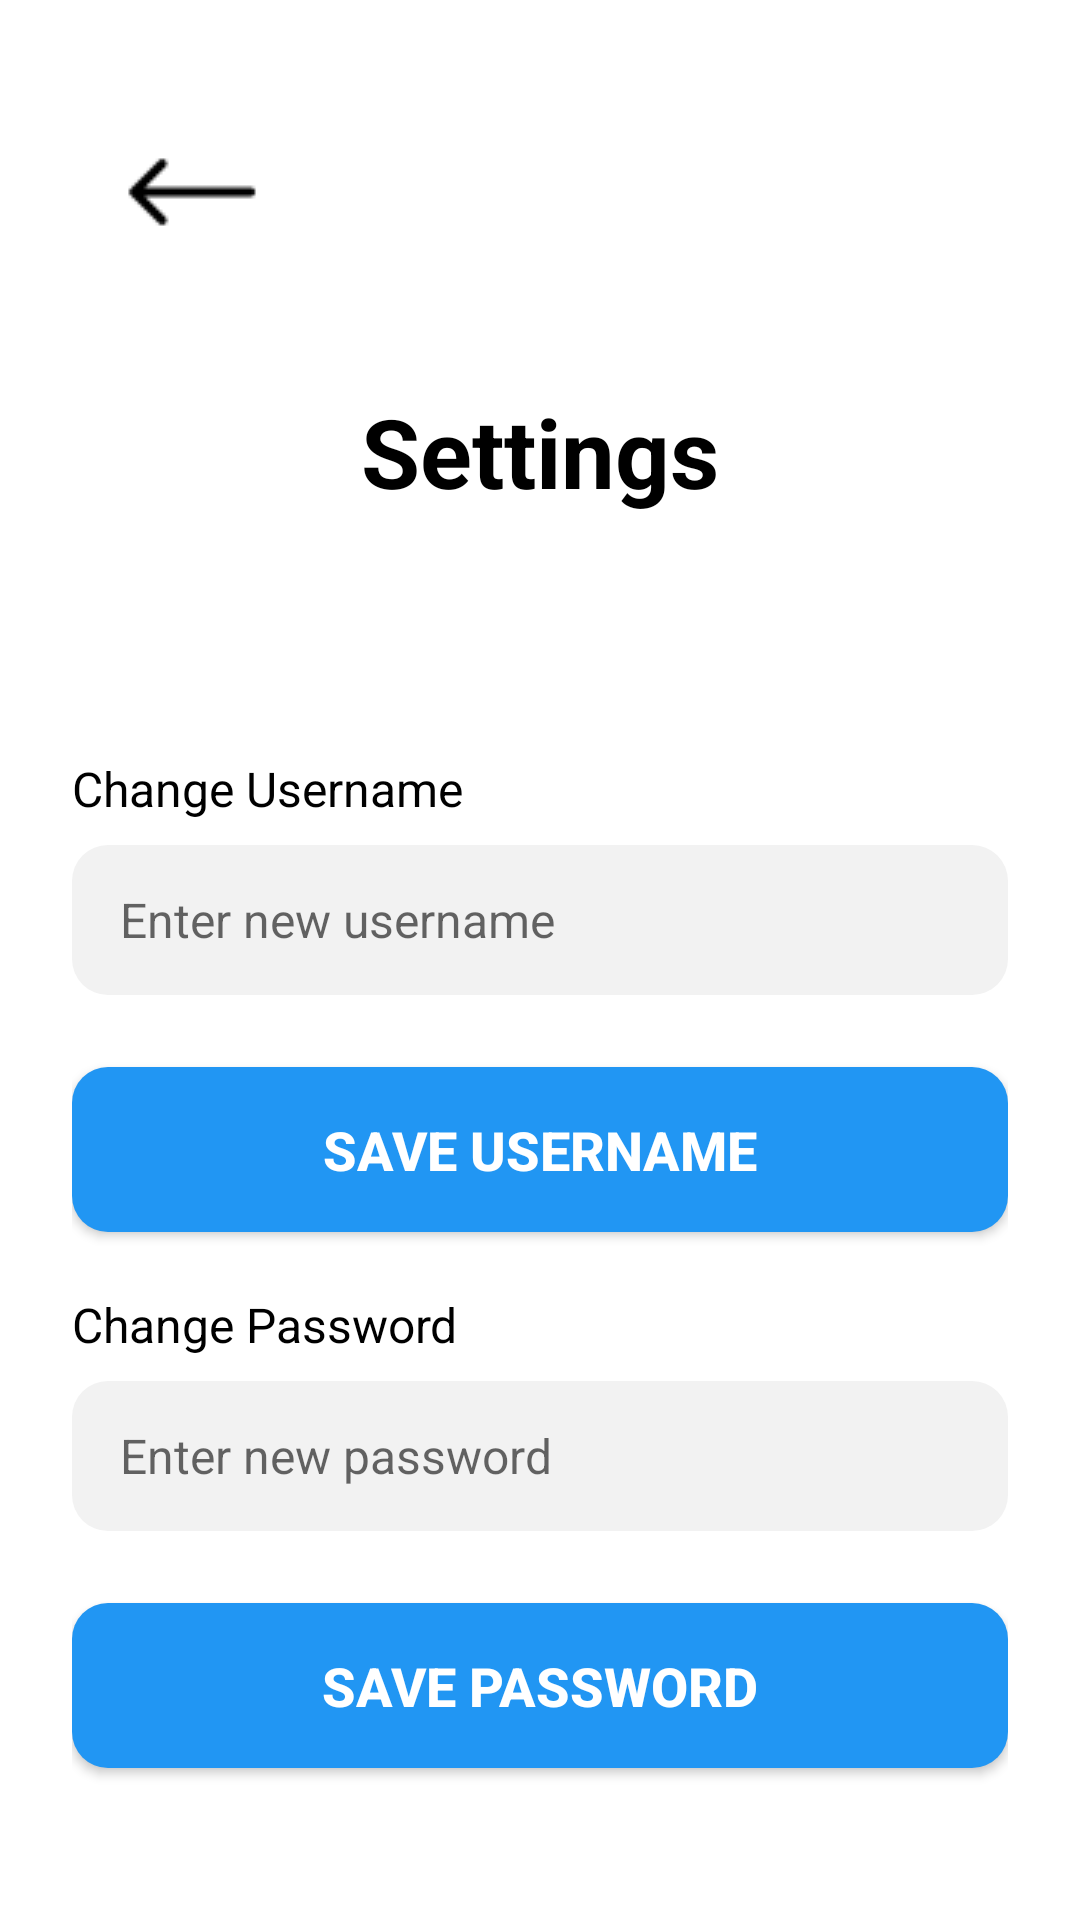

Screen size 1080w x 1920h. Icon name, then its box in pixels as (x1, y1, x2, y2):
back: (128, 158, 256, 226)
